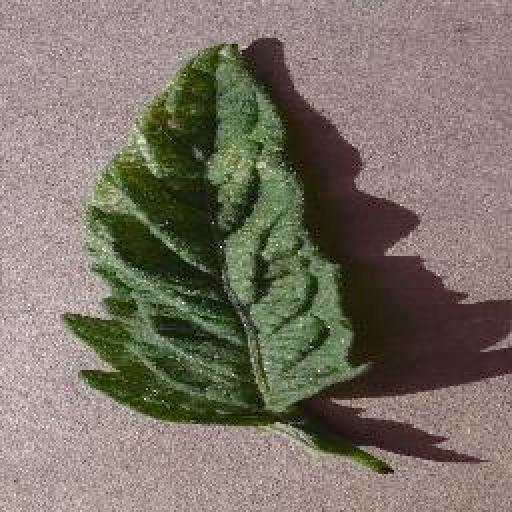disease_tomato: (62, 44, 374, 426)
